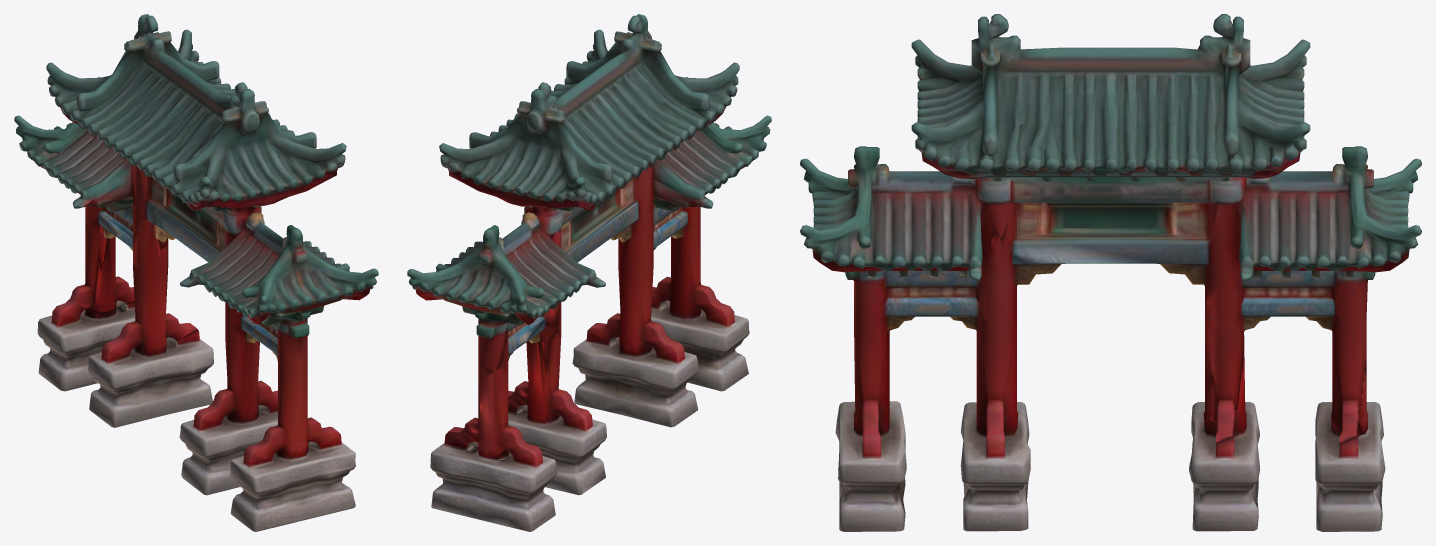
Rendered from paifang.glb.
The picture shows the model from 3 angles, left to right: view 1: azimuth 30°, elevation 25°; view 2: azimuth 150°, elevation 25°; view 3: azimuth 270°, elevation 25°; orthographic projection. The views are drawn at different scales.
Visible parts, largest first — view 1: tripo_node_428c8598-1aaf-469d-9a3e-089e9791cbe3; view 2: tripo_node_428c8598-1aaf-469d-9a3e-089e9791cbe3; view 3: tripo_node_428c8598-1aaf-469d-9a3e-089e9791cbe3.
Part boxes in pixels (x1,y1,x2,y2): tripo_node_428c8598-1aaf-469d-9a3e-089e9791cbe3: (14, 14, 378, 531); tripo_node_428c8598-1aaf-469d-9a3e-089e9791cbe3: (407, 14, 771, 531); tripo_node_428c8598-1aaf-469d-9a3e-089e9791cbe3: (800, 14, 1421, 531).
Size of the model in its own units: 0.3347 by 0.8552 by 0.9922.
Materials: 1 (1 with a texture image).
